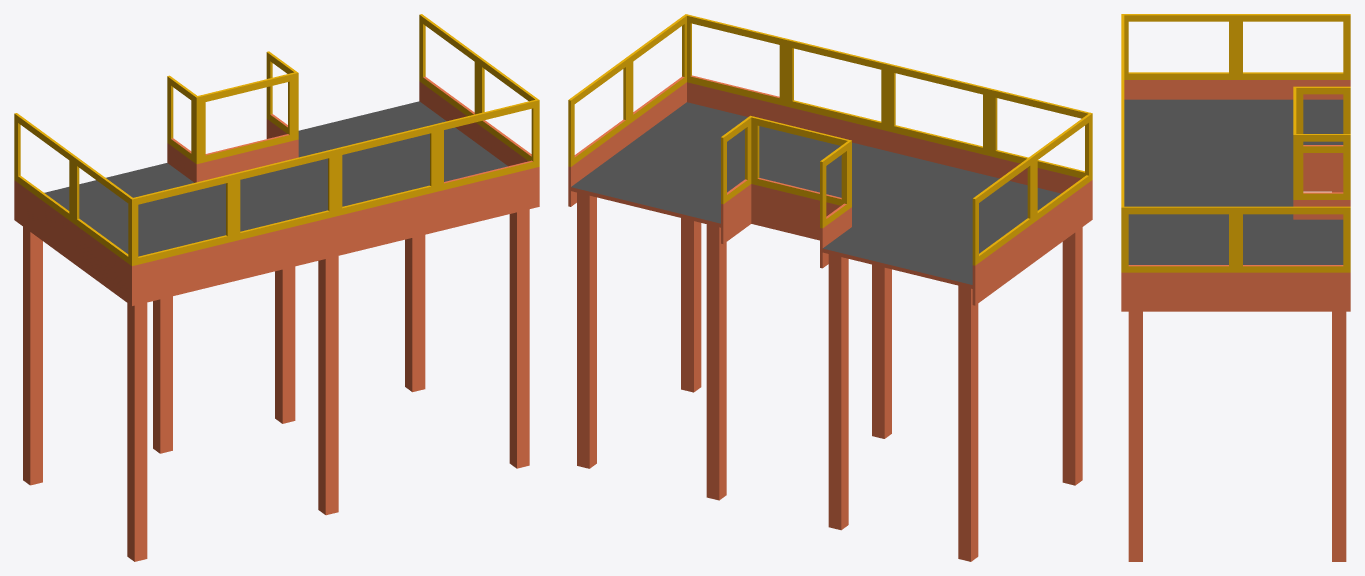
The model's file is Prop_Industrial_Platform_Walkway_Narrow_C_Joint_01.FBX.
3 renders of one model, left to right at view 1: azimuth 30°, elevation 25°; view 2: azimuth 150°, elevation 25°; view 3: azimuth 270°, elevation 25°, orthographic. The views are drawn at different scales.
Visible parts, largest first — view 1: Prop_Industrial_Platform_Walkway_Narrow_C_Joint_01; view 2: Prop_Industrial_Platform_Walkway_Narrow_C_Joint_01; view 3: Prop_Industrial_Platform_Walkway_Narrow_C_Joint_01.
Part boxes in pixels (x1,y1,x2,y2): Prop_Industrial_Platform_Walkway_Narrow_C_Joint_01: (14,14,539,561); Prop_Industrial_Platform_Walkway_Narrow_C_Joint_01: (568,14,1092,561); Prop_Industrial_Platform_Walkway_Narrow_C_Joint_01: (1121,14,1350,561).
Size of the model in its own units: 6400 by 5500 by 3200.
